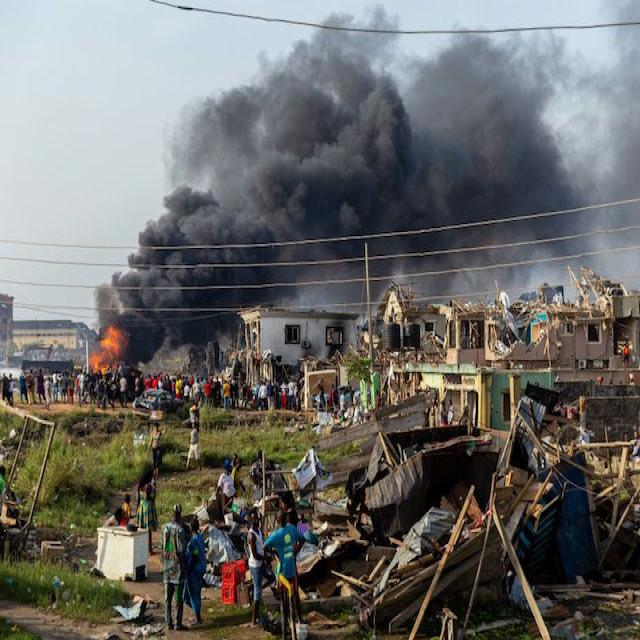fire: (92, 328, 120, 375)
smoke: (246, 61, 601, 212), (142, 223, 261, 319)
